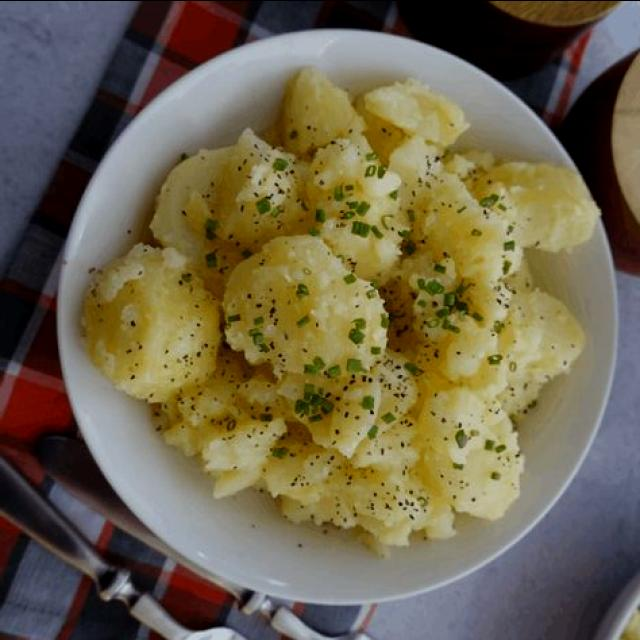kentang rebus: (77, 62, 609, 558)
